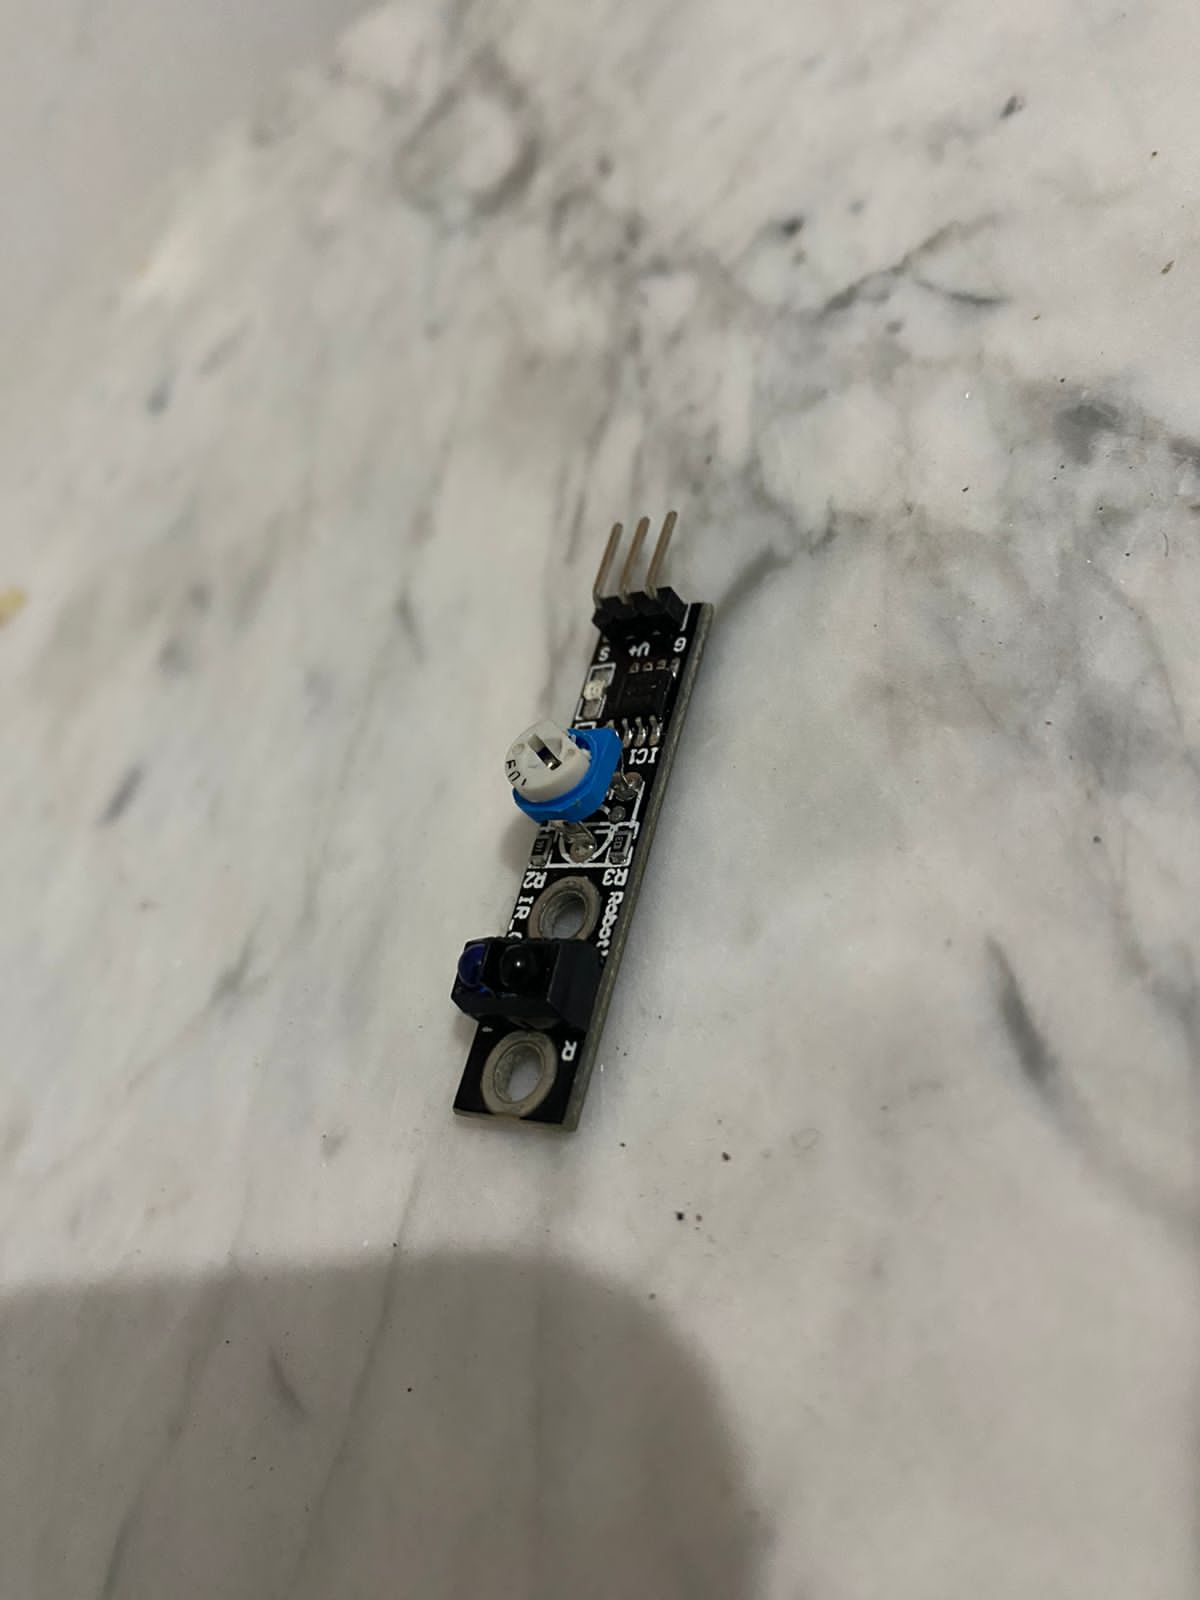ir-sensor: (422, 508, 730, 1129)
